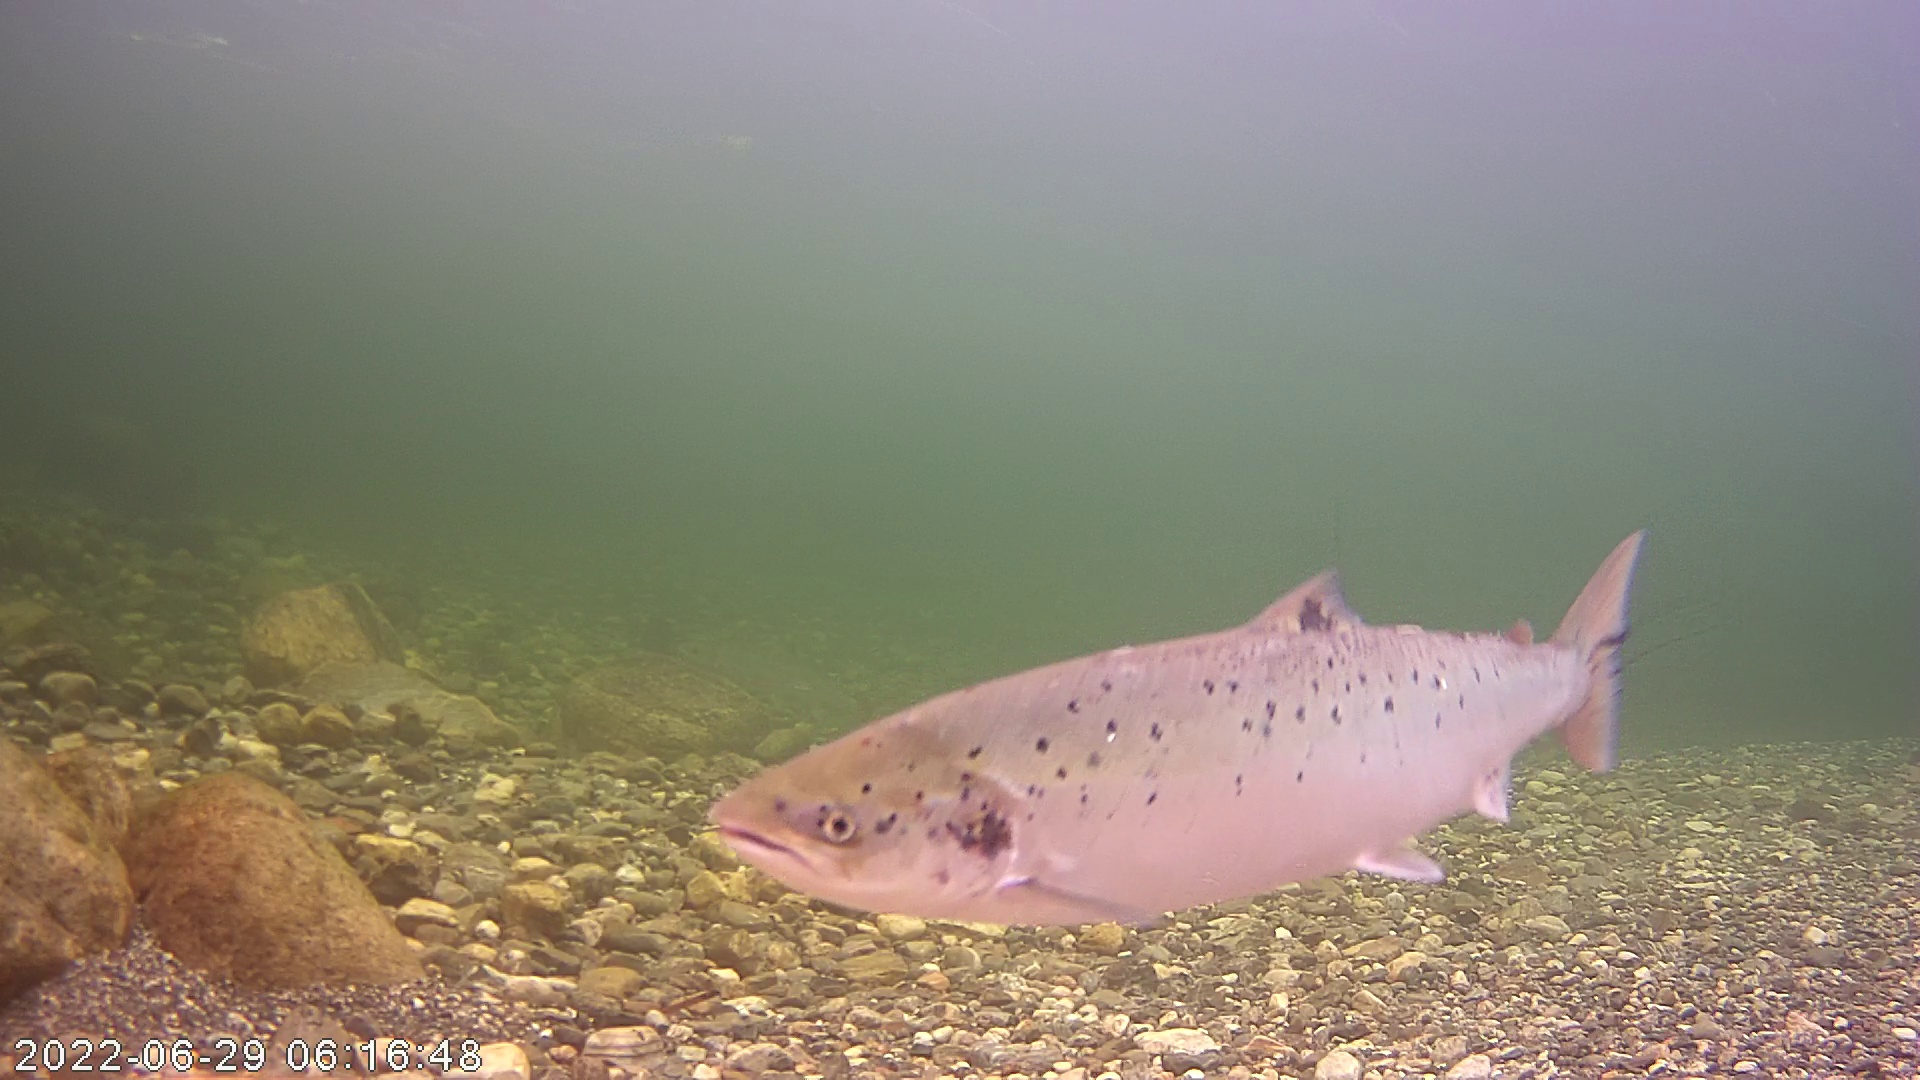salmon: (738, 468, 1640, 924)
